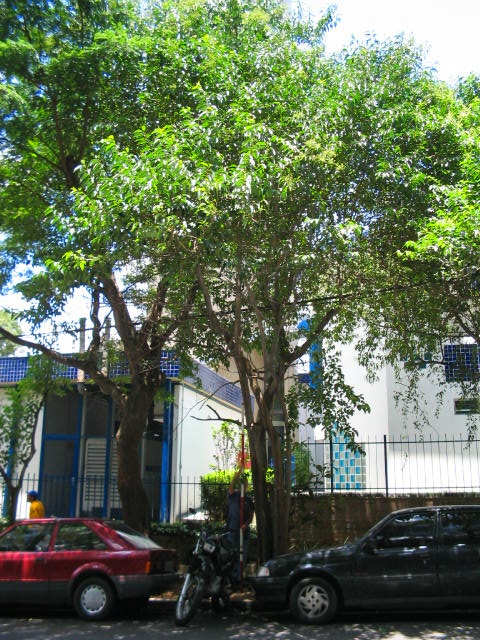crown: (47, 32, 474, 383), (4, 2, 336, 331)
stem: (98, 406, 171, 597), (245, 420, 297, 597)
stick: (231, 401, 250, 594)
tree: (44, 31, 476, 597), (2, 1, 337, 597)
